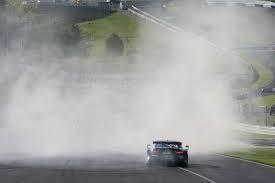smoke: (1, 0, 275, 167)
